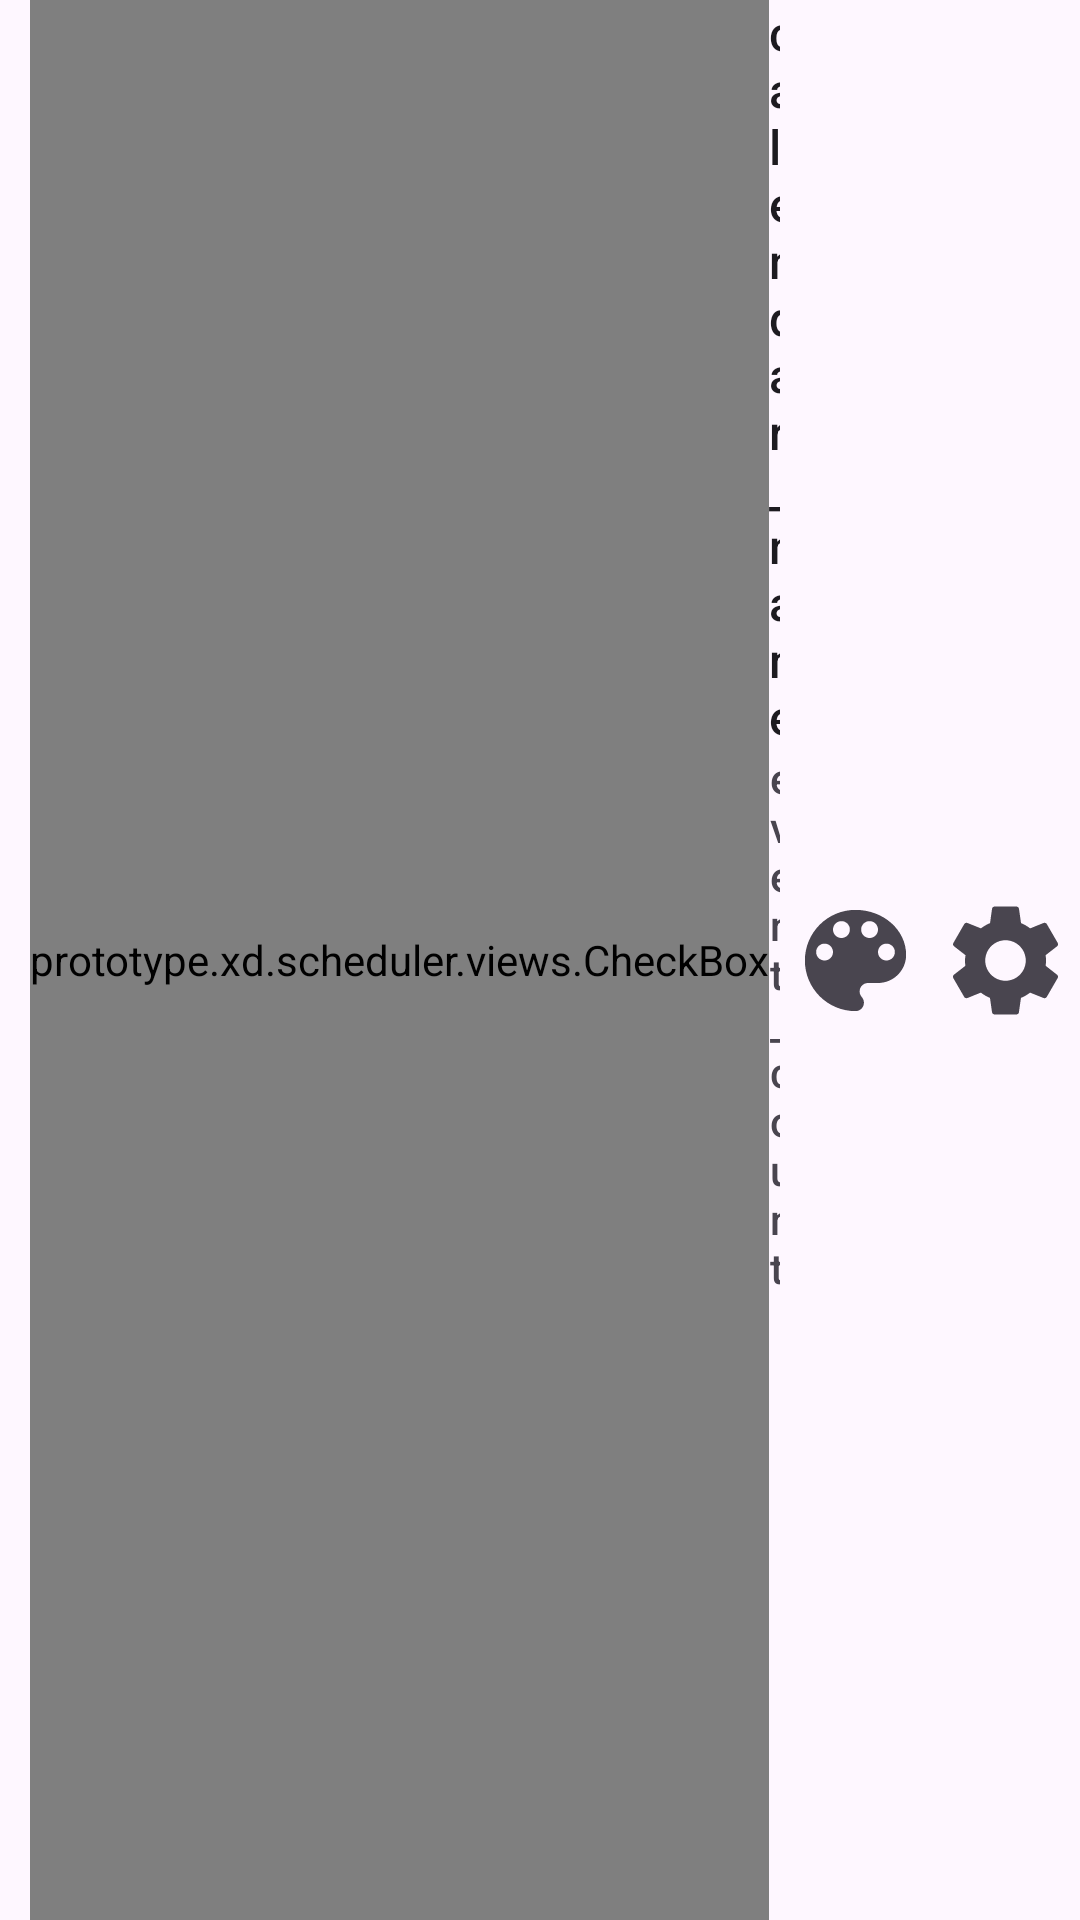

Icon bounding boxes for this 1080*1920 phone screenshot, format Rect(x1, y1, x2, y2):
palette: Rect(805, 910, 906, 1011)
settings: Rect(953, 906, 1058, 1015)
